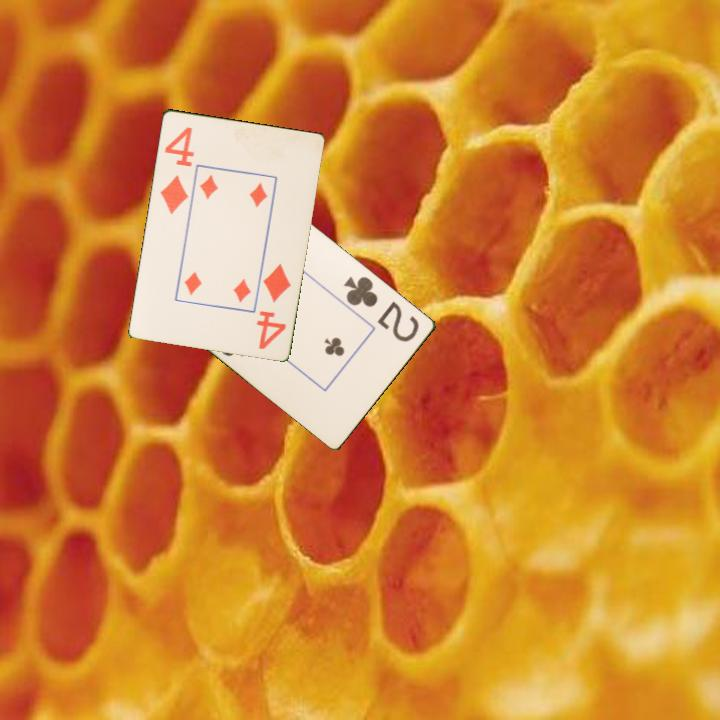2c: (341, 273, 423, 345)
4d: (253, 259, 294, 352), (156, 123, 196, 217)
